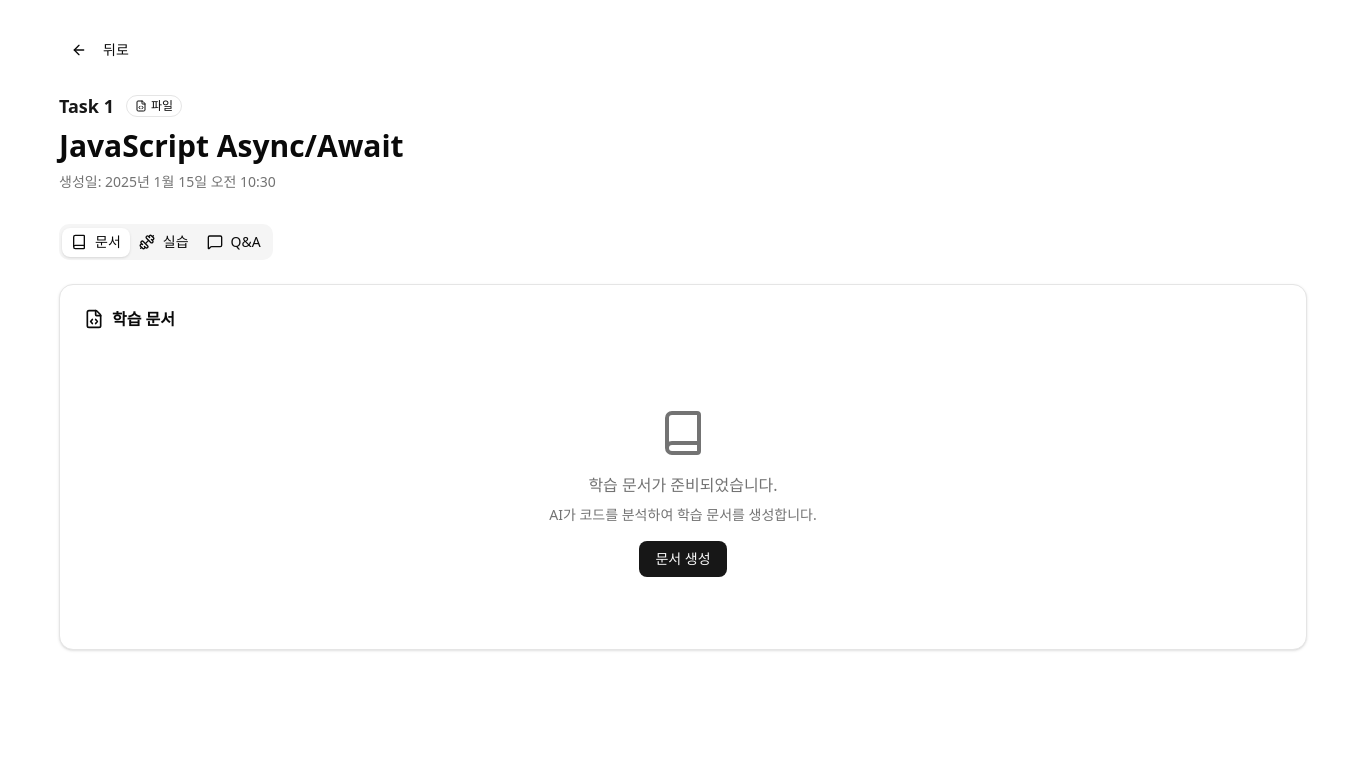
Test: TaskDetail › tabs › switches to practice tab when clicked
Click the tab "실습": [164, 242] box [130, 228, 198, 256]
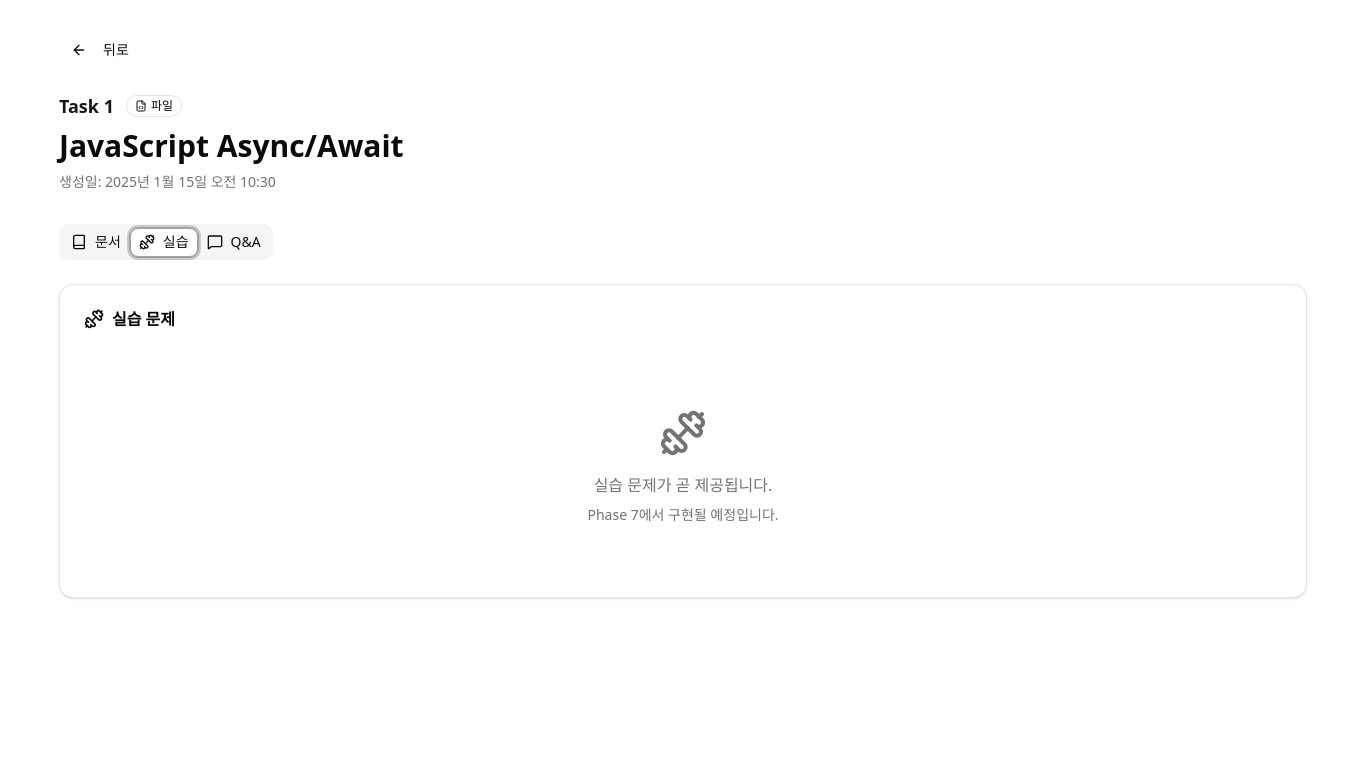
Result: the text "실습 문제가 곧 제공됩니다." is shown at [594, 474, 772, 496]
